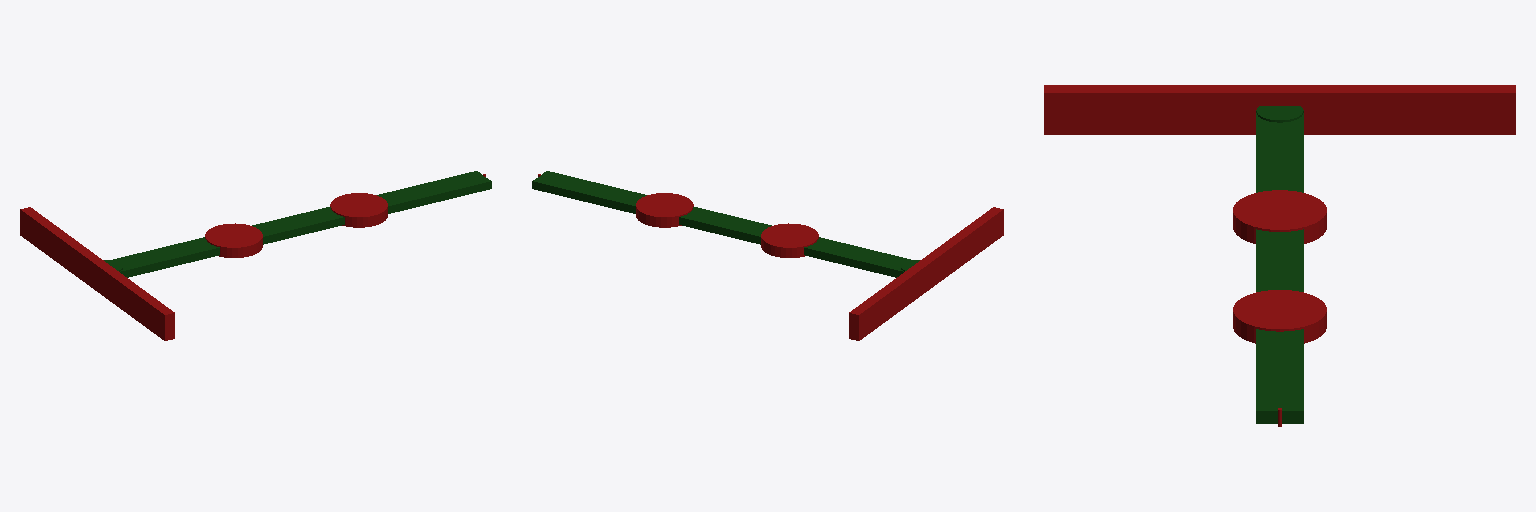
URDF robot description (RRRBot):
<?xml version="1.0" ?>

<robot name="RRRBot">

    <link name="link0">
        <inertial>
            <origin xyz="0.0 0.0 0.0" rpy="0 0 0" />
            <mass value="1" />
            <inertia ixx="0.084167" iyy="0.083467" izz="0.000967" ixy="0" ixz="0" iyz="0" />
        </inertial>
        <visual>
            <origin xyz="-0.045 0.0 0.0" rpy="0 0 0" />
            <geometry>
                <box size="0.04 1.0 0.1" />
            </geometry>
            <material name="material_red_custom" >
                <color rgba="0.6 0.1 0.1 1.0" />
            </material>  
        </visual>
        <visual>
            <origin xyz="0.0 0.0 0.0" rpy="0 0 0" />
            <geometry>
                <cylinder radius="0.05" length="0.04" />
            </geometry>
            <material name="material_green_custom" >
                <color rgba="0.1 0.3 0.1 1.0" />
            </material>  
        </visual>
    </link>

    <link name="link1">
        <inertial>
            <origin xyz="0.25 0.0 0.0" rpy="0 0 0" />
            <mass value="1" />
            <inertia ixx="0.084167" iyy="0.083467" izz="0.000967" ixy="0" ixz="0" iyz="0" />
        </inertial>
        <visual>
            <origin xyz="0.25 0.0 0.0" rpy="0 0 0" />
            <geometry>
                <box size="0.5 0.1 0.03" />
            </geometry>
            <material name="material_green_custom" >
                <color rgba="0.1 0.3 0.1 1.0" />
            </material>   
        </visual>
        <visual>
            <origin xyz="0.5 0.0 0.0" rpy="0 0 0" />
            <geometry>
                <cylinder radius="0.1" length="0.04" />
            </geometry>
            <material name="material_red_custom" >
                <color rgba="0.6 0.1 0.1 1.0" />
            </material>  
        </visual>
    </link>

    <link name="link2">
        <inertial>
            <origin xyz="0.25 0.0 0.0" rpy="0 0 0" />
            <mass value="1" />
            <inertia ixx="0.084167" iyy="0.083467" izz="0.000967" ixy="0" ixz="0" iyz="0" />
        </inertial>
        <visual>
            <origin xyz="0.25 0.0 0.0" rpy="0 0 0" />
            <geometry>
                <box size="0.5 0.1 0.03" />
            </geometry>
            <material name="material_green_custom" >
                <color rgba="0.1 0.3 0.1 1.0" />
            </material>   
        </visual>
        <visual>
            <origin xyz="0.5 0.0 0.0" rpy="0 0 0" />
            <geometry>
                <cylinder radius="0.1" length="0.04" />
            </geometry>
            <material name="material_red_custom" >
                <color rgba="0.6 0.1 0.1 1.0" />
            </material>  
        </visual>
    </link>

    <link name="link3">
        <inertial>
            <origin xyz="0.25 0.0 0.0" rpy="0 0 0" />
            <mass value="100" />
            <inertia ixx="0.084167" iyy="0.083467" izz="0.000967" ixy="0" ixz="0" iyz="0" />
        </inertial>
        <visual>
            <origin xyz="0.25 0.0 0.0" rpy="0 0 0" />
            <geometry>
                <box size="0.5 0.1 0.03" />
            </geometry>
            <material name="material_green_custom" >
                <color rgba="0.1 0.3 0.1 1.0" />
            </material>   
        </visual>
        <visual>
            <origin xyz="0.5 0.0 0.0" rpy="0 0 0" />
            <geometry>
                <!-- <cylinder radius="0.1" length="0.04" /> -->
                <cylinder radius="0.005" length="0.04" />
            </geometry>
            <material name="material_red_custom" >
                <color rgba="0.6 0.1 0.1 1.0" />
            </material>  
        </visual>
    </link>

    <joint name="j0" type="revolute">
        <parent link="link0" />
        <child link="link1" />
        <origin xyz="0 0 0" rpy="0 0 0" />
        <axis xyz="0 0 1" />
        <calibration falling="75.0"/>
        <limit lower="-100" upper="100" effort="176" velocity="1.7104" />
    </joint>    
    <joint name="j1" type="revolute">
        <parent link="link1" />
        <child link="link2" />
        <origin xyz="0.5 0 0" rpy="0 0 0" />
        <axis xyz="0 0 1" />
        <calibration falling="-150.0"/>
        <limit lower="-100" upper="100" effort="176" velocity="1.7104" />
    </joint>        
    <joint name="j3" type="revolute">
        <parent link="link2" />
        <child link="link3" />
        <origin xyz="0.5 0 0" rpy="0 0 0" />
        <axis xyz="0 0 1" />
        <calibration falling="100.0"/>
        <limit lower="-100" upper="100" effort="176" velocity="1.7104" />
    </joint> 
    
</robot>

--- What the picture shows (computed from the rendered views, not written in the file) ---
Views: 3 orthographic renders of the robot side by side, from view 1: azimuth 30°, elevation 25°; view 2: azimuth 150°, elevation 25°; view 3: azimuth 270°, elevation 25°.
Model RRRBot with 4 links and 3 joints (3 revolute), rooted at link0, posed all joints at 0.
Links seen in each view (by area): view 1: link0, link1, link2, link3; view 2: link0, link1, link2, link3; view 3: link0, link1, link2, link3.
Boxes of the visible links, box(x1,y1,x2,y2) form: link0: box(20, 207, 174, 340); link1: box(113, 223, 262, 277); link2: box(252, 193, 387, 244); link3: box(377, 171, 491, 213); link0: box(849, 207, 1003, 340); link1: box(761, 223, 910, 277); link2: box(636, 193, 771, 244); link3: box(532, 171, 646, 213); link0: box(1044, 85, 1515, 134); link1: box(1233, 113, 1326, 243); link2: box(1233, 229, 1326, 343); link3: box(1256, 329, 1303, 426).
Bounding box of the posed robot: 1.57 × 1 × 0.1 m (x, y, z).
Geometry: primitives only (box / cylinder / sphere), no mesh files.